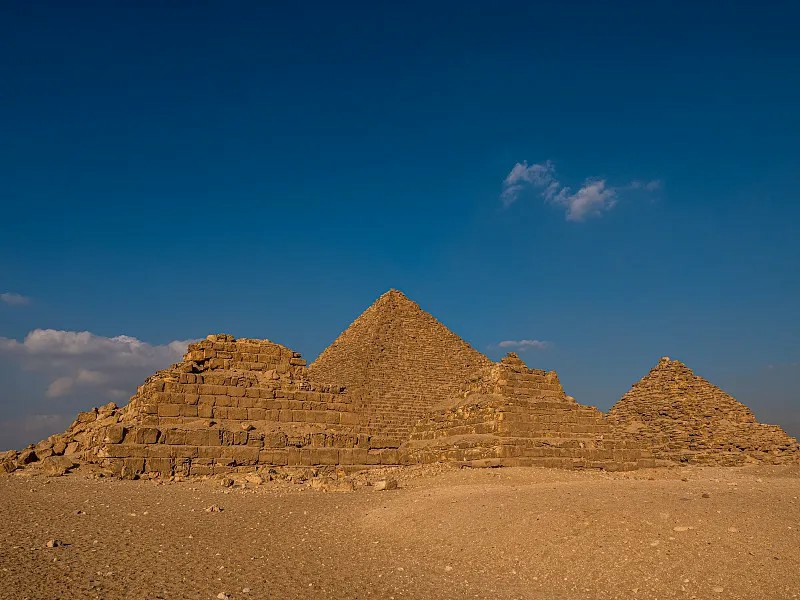Pyramid: (69, 334, 405, 477), (405, 350, 651, 471), (310, 288, 490, 446), (608, 357, 800, 469)
